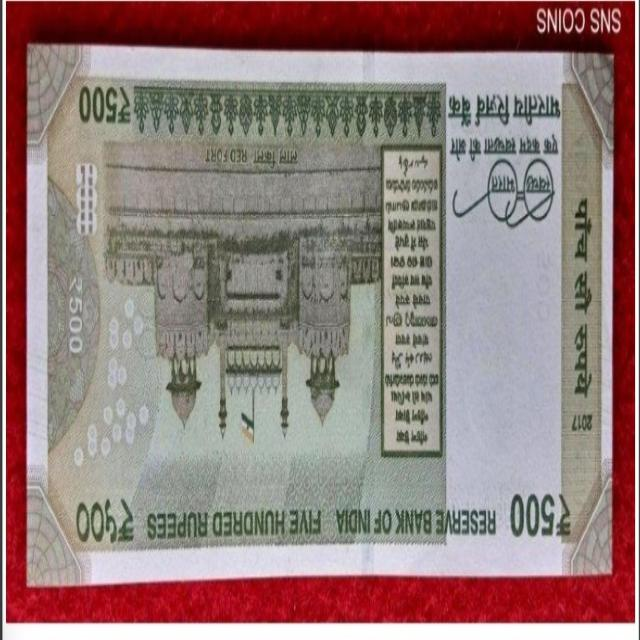500IndianRupees: (29, 46, 612, 576)
